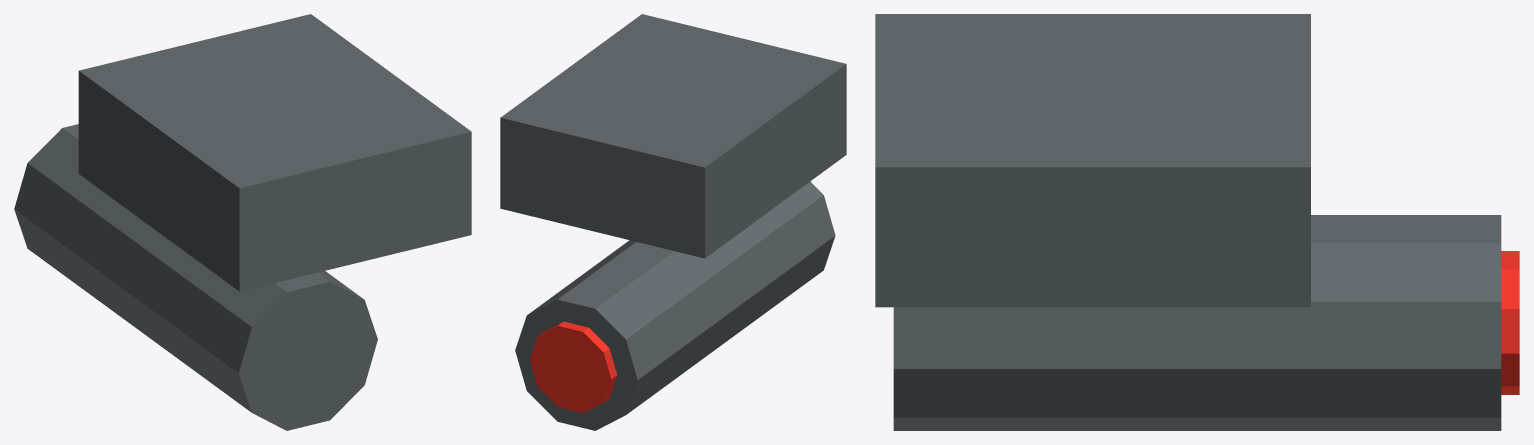
File: LaserSight.fbx
3 renders of one model, left to right at view 1: azimuth 30°, elevation 25°; view 2: azimuth 150°, elevation 25°; view 3: azimuth 270°, elevation 25°, orthographic. The views are drawn at different scales.
Visible parts, largest first — view 1: LaserClamp, LaserBody; view 2: LaserClamp, LaserBody, LaserLens; view 3: LaserClamp, LaserBody, LaserLens.
Boxes of the visible parts, bbox=[...] form: LaserClamp: bbox=[78, 14, 471, 291]; LaserBody: bbox=[14, 124, 377, 430]; LaserClamp: bbox=[500, 14, 846, 258]; LaserBody: bbox=[515, 181, 835, 430]; LaserLens: bbox=[529, 321, 617, 413]; LaserClamp: bbox=[875, 14, 1310, 307]; LaserBody: bbox=[893, 215, 1501, 430]; LaserLens: bbox=[1501, 251, 1519, 394].
Size of the model in its own units: 0.04 by 0.0429 by 0.071.
